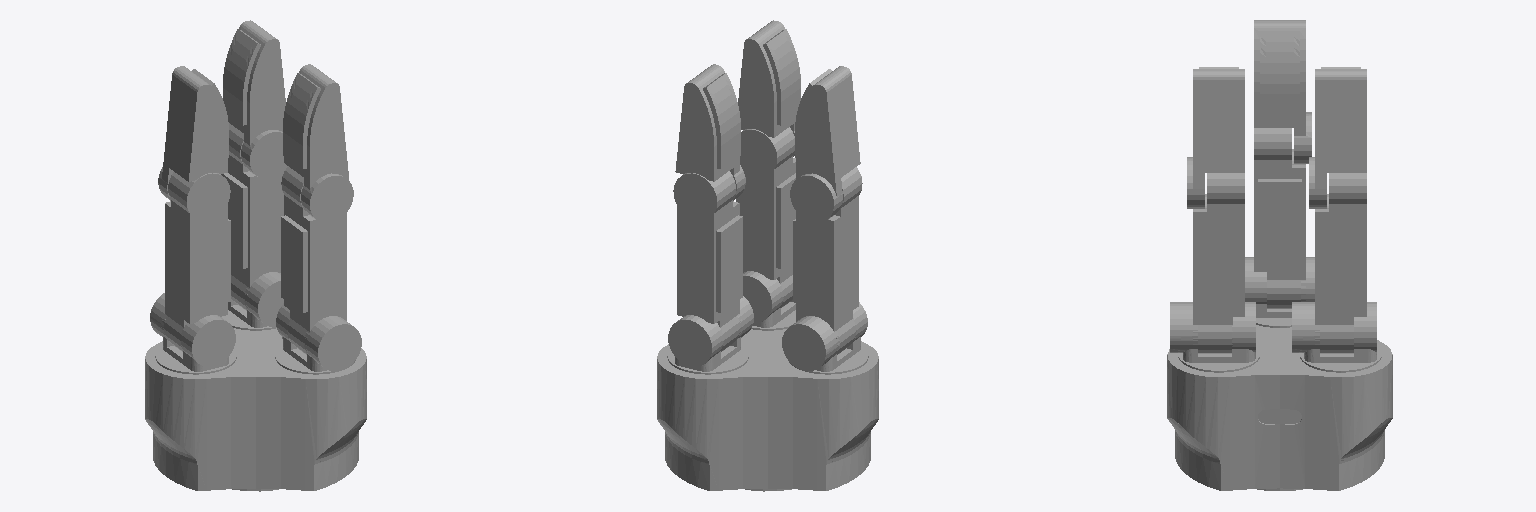
URDF robot description (lbr):
<?xml version="1.0" ?>
<!-- =================================================================================== -->
<!-- |    This document was autogenerated by xacro from sdh2.xacro                     | -->
<!-- |    EDITING THIS FILE BY HAND IS NOT RECOMMENDED                                 | -->
<!-- =================================================================================== -->
<robot name="lbr" xmlns:controller="http://playerstage.sourceforge.net/gazebo/xmlschema/#controller" xmlns:interface="http://playerstage.sourceforge.net/gazebo/xmlschema/#interface" xmlns:sensor="http://playerstage.sourceforge.net/gazebo/xmlschema/#sensor" xmlns:xacro="http://ros.org/wiki/xacro">
  <material name="Schunk/LightGrey">
    <color rgba="0.7 0.7 0.7 1.0"/>
  </material>
  <material name="Schunk/DarkGrey">
    <color rgba="0.4 0.4 0.4 1.0"/>
  </material>
  <material name="Schunk/Black">
    <color rgba="0.0 0.0 0.0 1.0"/>
  </material>
  <material name="Schunk/DarkGolden">
    <color rgba="0.4 0.4 0.3 1.0"/>
  </material>
  <material name="Schunk/Blue">
    <color rgba="0.0 0.0 0.8 1.0"/>
  </material>
  <link name="sdh2_palm_link">
    <inertial>
      <origin rpy="0 0 0" xyz="0 0 0"/>
      <mass value="1"/>
      <inertia ixx="0.01" ixy="0" ixz="0" iyy="0.01" iyz="0" izz="0.01"/>
    </inertial>
    <visual>
      <origin rpy="0 0 0" xyz="0 0 0"/>
      <geometry>
        <mesh filename="package://sdh2_description/meshes/palm.stl"/>
      </geometry>
      <material name="Schunk/LightGrey"/>
    </visual>
    <collision>
      <origin rpy="0 0 0" xyz="0 0 0"/>
      <geometry>
        <mesh filename="package://sdh2_description/meshes/palm_low_res.stl"/>
      </geometry>
    </collision>
  </link>
  <joint name="sdh2_grasp_joint" type="fixed">
    <origin rpy="0 0 0" xyz="0 0 0.15"/>
    <parent link="sdh2_palm_link"/>
    <child link="sdh2_grasp_link"/>
  </joint>
  <link name="sdh2_grasp_link"/>
  <joint name="sdh2_tip_joint" type="fixed">
    <origin rpy="0 0 0" xyz="0 0 0.22"/>
    <parent link="sdh2_palm_link"/>
    <child link="sdh2_tip_link"/>
  </joint>
  <link name="sdh2_tip_link"/>
  <joint name="sdh2_knuckle_joint" type="revolute">
    <origin rpy="0 0 3.14159265" xyz="0.01905 0.033 0.0745"/>
    <parent link="sdh2_palm_link"/>
    <child link="sdh2_finger_11_link"/>
    <axis xyz="0 0 1"/>
    <dynamics damping="1"/>
    <limit effort="100" lower="0" upper="1.570796327" velocity="5"/>
  </joint>
  <link name="sdh2_finger_11_link">
    <inertial>
      <origin rpy="0 0 0" xyz="0 0 0"/>
      <mass value="0.1"/>
      <inertia ixx="0.01" ixy="0" ixz="0" iyy="0.01" iyz="0" izz="0.01"/>
    </inertial>
    <visual>
      <origin rpy="0 0 0" xyz="0 0 0"/>
      <geometry>
        <mesh filename="package://sdh2_description/meshes/knuckle.stl"/>
      </geometry>
      <material name="Schunk/LightGrey"/>
    </visual>
    <collision>
      <origin rpy="0 0 0" xyz="0 0 0"/>
      <geometry>
        <mesh filename="package://sdh2_description/meshes/knuckle_low_res.stl"/>
      </geometry>
    </collision>
  </link>
  <joint name="sdh2_finger_12_joint" type="revolute">
    <origin rpy="0 0 0" xyz="0 0 0.0165"/>
    <parent link="sdh2_finger_11_link"/>
    <child link="sdh2_finger_12_link"/>
    <axis xyz="0 1 0"/>
    <dynamics damping="1"/>
    <limit effort="100" lower="-1.570796327" upper="1.570796327" velocity="5"/>
  </joint>
  <link name="sdh2_finger_12_link">
    <inertial>
      <origin rpy="0 0 0" xyz="0 0 0"/>
      <mass value="0.1"/>
      <inertia ixx="0.01" ixy="0" ixz="0" iyy="0.01" iyz="0" izz="0.01"/>
    </inertial>
    <visual>
      <origin rpy="0 0 0" xyz="0 0 0"/>
      <geometry>
        <mesh filename="package://sdh2_description/meshes/finger.stl"/>
      </geometry>
      <material name="Schunk/LightGrey"/>
    </visual>
    <collision>
      <origin rpy="0 0 0" xyz="0 0 0"/>
      <geometry>
        <mesh filename="package://sdh2_description/meshes/finger_low_res.stl"/>
      </geometry>
    </collision>
  </link>
  <joint name="sdh2_finger_13_joint" type="revolute">
    <origin rpy="0 0 0" xyz="0 0 0.0865"/>
    <parent link="sdh2_finger_12_link"/>
    <child link="sdh2_finger_13_link"/>
    <axis xyz="0 1 0"/>
    <dynamics damping="1"/>
    <limit effort="100" lower="-1.570796327" upper="1.570796327" velocity="5"/>
  </joint>
  <link name="sdh2_finger_13_link">
    <inertial>
      <origin rpy="0 0 0" xyz="0 0 0"/>
      <mass value="0.1"/>
      <inertia ixx="0.01" ixy="0" ixz="0" iyy="0.01" iyz="0" izz="0.01"/>
    </inertial>
    <visual>
      <origin rpy="0 0 0" xyz="0 0 0"/>
      <geometry>
        <mesh filename="package://sdh2_description/meshes/finger_tip.stl"/>
      </geometry>
      <material name="Schunk/LightGrey"/>
    </visual>
    <collision>
      <origin rpy="0 0 0" xyz="0 0 0"/>
      <geometry>
        <mesh filename="package://sdh2_description/meshes/finger_tip_low_res.stl"/>
      </geometry>
    </collision>
  </link>
  <joint name="sdh2_finger_21_joint" type="revolute">
    <mimic joint="sdh2_knuckle_joint" multiplier="1" offset="0"/>
    <origin rpy="0 0 3.14159265" xyz="0.01905 -0.033 0.0745"/>
    <parent link="sdh2_palm_link"/>
    <child link="sdh2_finger_21_link"/>
    <axis xyz="0 0 -1"/>
    <dynamics damping="1"/>
    <limit effort="100" lower="0" upper="1.570796327" velocity="5"/>
  </joint>
  <link name="sdh2_finger_21_link">
    <inertial>
      <origin rpy="0 0 0" xyz="0 0 0"/>
      <mass value="0.1"/>
      <inertia ixx="0.01" ixy="0" ixz="0" iyy="0.01" iyz="0" izz="0.01"/>
    </inertial>
    <visual>
      <origin rpy="0 0 0" xyz="0 0 0"/>
      <geometry>
        <mesh filename="package://sdh2_description/meshes/knuckle.stl"/>
      </geometry>
      <material name="Schunk/LightGrey"/>
    </visual>
    <collision>
      <origin rpy="0 0 0" xyz="0 0 0"/>
      <geometry>
        <mesh filename="package://sdh2_description/meshes/knuckle_low_res.stl"/>
      </geometry>
    </collision>
  </link>
  <joint name="sdh2_finger_22_joint" type="revolute">
    <origin rpy="0 0 0" xyz="0 0 0.0165"/>
    <parent link="sdh2_finger_21_link"/>
    <child link="sdh2_finger_22_link"/>
    <axis xyz="0 1 0"/>
    <dynamics damping="1"/>
    <limit effort="100" lower="-1.570796327" upper="1.570796327" velocity="5"/>
  </joint>
  <link name="sdh2_finger_22_link">
    <inertial>
      <origin rpy="0 0 0" xyz="0 0 0"/>
      <mass value="0.1"/>
      <inertia ixx="0.01" ixy="0" ixz="0" iyy="0.01" iyz="0" izz="0.01"/>
    </inertial>
    <visual>
      <origin rpy="0 0 0" xyz="0 0 0"/>
      <geometry>
        <mesh filename="package://sdh2_description/meshes/finger.stl"/>
      </geometry>
      <material name="Schunk/LightGrey"/>
    </visual>
    <collision>
      <origin rpy="0 0 0" xyz="0 0 0"/>
      <geometry>
        <mesh filename="package://sdh2_description/meshes/finger_low_res.stl"/>
      </geometry>
    </collision>
  </link>
  <joint name="sdh2_finger_23_joint" type="revolute">
    <origin rpy="0 0 0" xyz="0 0 0.0865"/>
    <parent link="sdh2_finger_22_link"/>
    <child link="sdh2_finger_23_link"/>
    <axis xyz="0 1 0"/>
    <dynamics damping="1"/>
    <limit effort="100" lower="-1.570796327" upper="1.570796327" velocity="5"/>
  </joint>
  <link name="sdh2_finger_23_link">
    <inertial>
      <origin rpy="0 0 0" xyz="0 0 0"/>
      <mass value="0.1"/>
      <inertia ixx="0.01" ixy="0" ixz="0" iyy="0.01" iyz="0" izz="0.01"/>
    </inertial>
    <visual>
      <origin rpy="0 0 0" xyz="0 0 0"/>
      <geometry>
        <mesh filename="package://sdh2_description/meshes/finger_tip.stl"/>
      </geometry>
      <material name="Schunk/LightGrey"/>
    </visual>
    <collision>
      <origin rpy="0 0 0" xyz="0 0 0"/>
      <geometry>
        <mesh filename="package://sdh2_description/meshes/finger_tip_low_res.stl"/>
      </geometry>
    </collision>
  </link>
  <joint name="sdh2_thumb_1_joint" type="fixed">
    <origin rpy="0 0 0" xyz="-0.03811 0 0.0745 "/>
    <parent link="sdh2_palm_link"/>
    <child link="sdh2_thumb_1_link"/>
  </joint>
  <link name="sdh2_thumb_1_link">
    <inertial>
      <origin rpy="0 0 0" xyz="0 0 0"/>
      <mass value="0.1"/>
      <inertia ixx="0.01" ixy="0" ixz="0" iyy="0.01" iyz="0" izz="0.01"/>
    </inertial>
    <visual>
      <origin rpy="0 0 0" xyz="0 0 0"/>
      <geometry>
        <mesh filename="package://sdh2_description/meshes/knuckle.stl"/>
      </geometry>
      <material name="Schunk/LightGrey"/>
    </visual>
    <collision>
      <origin rpy="0 0 0" xyz="0 0 0"/>
      <geometry>
        <mesh filename="package://sdh2_description/meshes/knuckle_low_res.stl"/>
      </geometry>
    </collision>
  </link>
  <joint name="sdh2_thumb_2_joint" type="revolute">
    <origin rpy="0 0 0" xyz="0 0 0.0165"/>
    <parent link="sdh2_thumb_1_link"/>
    <child link="sdh2_thumb_2_link"/>
    <axis xyz="0 1 0"/>
    <dynamics damping="1"/>
    <limit effort="100" lower="-1.570796327" upper="1.570796327" velocity="5"/>
  </joint>
  <link name="sdh2_thumb_2_link">
    <inertial>
      <origin rpy="0 0 0" xyz="0 0 0"/>
      <mass value="0.1"/>
      <inertia ixx="0.01" ixy="0" ixz="0" iyy="0.01" iyz="0" izz="0.01"/>
    </inertial>
    <visual>
      <origin rpy="0 0 0" xyz="0 0 0"/>
      <geometry>
        <mesh filename="package://sdh2_description/meshes/finger.stl"/>
      </geometry>
      <material name="Schunk/LightGrey"/>
    </visual>
    <collision>
      <origin rpy="0 0 0" xyz="0 0 0"/>
      <geometry>
        <mesh filename="package://sdh2_description/meshes/finger_low_res.stl"/>
      </geometry>
    </collision>
  </link>
  <joint name="sdh2_thumb_3_joint" type="revolute">
    <origin rpy="0 0 0" xyz="0 0 0.0865"/>
    <parent link="sdh2_thumb_2_link"/>
    <child link="sdh2_thumb_3_link"/>
    <axis xyz="0 1 0"/>
    <dynamics damping="1"/>
    <limit effort="100" lower="-1.570796327" upper="1.570796327" velocity="5"/>
  </joint>
  <link name="sdh2_thumb_3_link">
    <inertial>
      <origin rpy="0 0 0" xyz="0 0 0"/>
      <mass value="0.1"/>
      <inertia ixx="0.01" ixy="0" ixz="0" iyy="0.01" iyz="0" izz="0.01"/>
    </inertial>
    <visual>
      <origin rpy="0 0 0" xyz="0 0 0"/>
      <geometry>
        <mesh filename="package://sdh2_description/meshes/finger_tip.stl"/>
      </geometry>
      <material name="Schunk/LightGrey"/>
    </visual>
    <collision>
      <origin rpy="0 0 0" xyz="0 0 0"/>
      <geometry>
        <mesh filename="package://sdh2_description/meshes/finger_tip_low_res.stl"/>
      </geometry>
    </collision>
  </link>
  <gazebo reference="sdh2_palm_link">
    <material>Schunk/LightGrey</material>
    <turnGravityOff>false</turnGravityOff>
  </gazebo>
  <gazebo reference="sdh2_finger_11_link">
    <material>Schunk/LightGrey</material>
    <turnGravityOff>false</turnGravityOff>
  </gazebo>
  <gazebo reference="sdh2_finger_12_link">
    <selfCollide>true</selfCollide>
    <sensor:contact name="sdh2_finger_12_contact_sensor">
      <geom>sdh2_finger_12_link_geom</geom>
      <updateRate>100.0</updateRate>
      <controller:gazebo_ros_bumper name="sdh2_finger_12_gazebo_ros_bumper_controller" plugin="libgazebo_ros_bumper.so">
        <alwaysOn>true</alwaysOn>
        <updateRate>100.0</updateRate>
        <frameName>sdh2_finger_12_link</frameName>
        <bumperTopicName>sdh2_finger_12_bumper</bumperTopicName>
        <interface:bumper name="sdh2_finger_12_bumper_iface"/>
      </controller:gazebo_ros_bumper>
    </sensor:contact>
    <material>Schunk/LightGrey</material>
    <turnGravityOff>false</turnGravityOff>
  </gazebo>
  <gazebo reference="sdh2_finger_13_link">
    <selfCollide>true</selfCollide>
    <sensor:contact name="sdh2_finger_13_contact_sensor">
      <geom>sdh2_finger_13_link_geom</geom>
      <updateRate>100.0</updateRate>
      <controller:gazebo_ros_bumper name="sdh2_finger_13_gazebo_ros_bumper_controller" plugin="libgazebo_ros_bumper.so">
        <alwaysOn>true</alwaysOn>
        <updateRate>100.0</updateRate>
        <frameName>sdh2_finger_13_link</frameName>
        <bumperTopicName>sdh2_finger_13_bumper</bumperTopicName>
        <interface:bumper name="sdh2_finger_13_bumper_iface"/>
      </controller:gazebo_ros_bumper>
    </sensor:contact>
    <material>Schunk/LightGrey</material>
  </gazebo>
  <gazebo reference="sdh2_finger_21_link">
    <material>Schunk/LightGrey</material>
    <turnGravityOff>false</turnGravityOff>
  </gazebo>
  <gazebo reference="sdh2_finger_22_link">
    <selfCollide>true</selfCollide>
    <sensor:contact name="sdh2_finger_22_contact_sensor">
      <geom>sdh2_finger_22_link_geom</geom>
      <updateRate>100.0</updateRate>
      <controller:gazebo_ros_bumper name="sdh2_finger_22_gazebo_ros_bumper_controller" plugin="libgazebo_ros_bumper.so">
        <alwaysOn>true</alwaysOn>
        <updateRate>100.0</updateRate>
        <frameName>sdh2_finger_22_link</frameName>
        <bumperTopicName>sdh2_finger_22_bumper</bumperTopicName>
        <interface:bumper name="sdh2_finger_22_bumper_iface"/>
      </controller:gazebo_ros_bumper>
    </sensor:contact>
    <material>Schunk/LightGrey</material>
    <turnGravityOff>false</turnGravityOff>
  </gazebo>
  <gazebo reference="sdh2_finger_23_link">
    <selfCollide>true</selfCollide>
    <sensor:contact name="sdh2_finger_23_contact_sensor">
      <geom>sdh2_finger_23_link_geom</geom>
      <updateRate>100.0</updateRate>
      <controller:gazebo_ros_bumper name="sdh2_finger_23_gazebo_ros_bumper_controller" plugin="libgazebo_ros_bumper.so">
        <alwaysOn>true</alwaysOn>
        <updateRate>100.0</updateRate>
        <frameName>sdh2_finger_23_link</frameName>
        <bumperTopicName>sdh2_finger_23_bumper</bumperTopicName>
        <interface:bumper name="sdh2_finger_23_bumper_iface"/>
      </controller:gazebo_ros_bumper>
    </sensor:contact>
    <material>Schunk/LightGrey</material>
  </gazebo>
  <gazebo reference="sdh2_thumb_1_link">
    <material>Schunk/LightGrey</material>
    <turnGravityOff>false</turnGravityOff>
  </gazebo>
  <gazebo reference="sdh2_thumb_2_link">
    <selfCollide>true</selfCollide>
    <sensor:contact name="sdh2_thumb_2_contact_sensor">
      <geom>sdh2_thumb_2_link_geom</geom>
      <updateRate>100.0</updateRate>
      <controller:gazebo_ros_bumper name="sdh2_thumb_2_gazebo_ros_bumper_controller" plugin="libgazebo_ros_bumper.so">
        <alwaysOn>true</alwaysOn>
        <updateRate>100.0</updateRate>
        <frameName>sdh2_thumb_2_link</frameName>
        <bumperTopicName>sdh2_thumb_2_bumper</bumperTopicName>
        <interface:bumper name="sdh2_thumb_2_bumper_iface"/>
      </controller:gazebo_ros_bumper>
    </sensor:contact>
    <material>Schunk/LightGrey</material>
    <turnGravityOff>false</turnGravityOff>
  </gazebo>
  <gazebo reference="sdh2_thumb_3_link">
    <selfCollide>true</selfCollide>
    <sensor:contact name="sdh2_thumb_3_contact_sensor">
      <geom>sdh2_thumb_3_link_geom</geom>
      <updateRate>100.0</updateRate>
      <controller:gazebo_ros_bumper name="sdh2_thumb_3_gazebo_ros_bumper_controller" plugin="libgazebo_ros_bumper.so">
        <alwaysOn>true</alwaysOn>
        <updateRate>100.0</updateRate>
        <frameName>sdh2_thumb_3_link</frameName>
        <bumperTopicName>sdh2_thumb_3_bumper</bumperTopicName>
        <interface:bumper name="sdh2_thumb_3_bumper_iface"/>
      </controller:gazebo_ros_bumper>
    </sensor:contact>
    <material>Schunk/LightGrey</material>
  </gazebo>
  <transmission name="sdh2_knuckle_trans" type="pr2_mechanism_model/SimpleTransmission">
    <actuator name="sdh2_knuckle_motor"/>
    <joint name="sdh2_finger_21_joint"/>
    <mechanicalReduction>1</mechanicalReduction>
  </transmission>
  <transmission name="sdh2_knuckle_trans" type="pr2_mechanism_model/SimpleTransmission">
    <actuator name="sdh2_knuckle_motor"/>
    <joint name="sdh2_knuckle_joint"/>
    <mechanicalReduction>1</mechanicalReduction>
  </transmission>
  <transmission name="sdh2_finger_12_trans" type="pr2_mechanism_model/SimpleTransmission">
    <actuator name="sdh2_finger_12_motor"/>
    <joint name="sdh2_finger_12_joint"/>
    <mechanicalReduction>1</mechanicalReduction>
  </transmission>
  <transmission name="sdh2_finger_13_trans" type="pr2_mechanism_model/SimpleTransmission">
    <actuator name="sdh2_finger_13_motor"/>
    <joint name="sdh2_finger_13_joint"/>
    <mechanicalReduction>1</mechanicalReduction>
  </transmission>
  <transmission name="sdh2_finger_22_trans" type="pr2_mechanism_model/SimpleTransmission">
    <actuator name="sdh2_finger_22_motor"/>
    <joint name="sdh2_finger_22_joint"/>
    <mechanicalReduction>1</mechanicalReduction>
  </transmission>
  <transmission name="sdh2_finger_23_trans" type="pr2_mechanism_model/SimpleTransmission">
    <actuator name="sdh2_finger_23_motor"/>
    <joint name="sdh2_finger_23_joint"/>
    <mechanicalReduction>1</mechanicalReduction>
  </transmission>
  <transmission name="sdh2_thumb_2_trans" type="pr2_mechanism_model/SimpleTransmission">
    <actuator name="sdh2_thumb_2_motor"/>
    <joint name="sdh2_thumb_2_joint"/>
    <mechanicalReduction>1</mechanicalReduction>
  </transmission>
  <transmission name="sdh2_thumb_3_trans" type="pr2_mechanism_model/SimpleTransmission">
    <actuator name="sdh2_thumb_3_motor"/>
    <joint name="sdh2_thumb_3_joint"/>
    <mechanicalReduction>1</mechanicalReduction>
  </transmission>
</robot>

--- What the picture shows (computed from the rendered views, not written in the file) ---
3 views of the same robot in one strip: view 1: azimuth 30°, elevation 25°; view 2: azimuth 150°, elevation 25°; view 3: azimuth 270°, elevation 25° (orthographic).
Model lbr with 12 links and 11 joints (8 revolute, 3 fixed), rooted at sdh2_palm_link, posed every joint at zero.
Links seen in each view (by area): view 1: sdh2_palm_link, sdh2_thumb_2_link, sdh2_finger_22_link, sdh2_finger_23_link, sdh2_finger_13_link, sdh2_finger_12_link, sdh2_thumb_3_link, sdh2_thumb_1_link, sdh2_finger_21_link, sdh2_finger_11_link; view 2: sdh2_palm_link, sdh2_finger_12_link, sdh2_thumb_3_link, sdh2_thumb_2_link, sdh2_finger_22_link, sdh2_finger_13_link, sdh2_finger_23_link, sdh2_finger_11_link, sdh2_thumb_1_link, sdh2_finger_21_link; view 3: sdh2_palm_link, sdh2_finger_22_link, sdh2_finger_12_link, sdh2_thumb_2_link, sdh2_thumb_3_link, sdh2_finger_13_link, sdh2_finger_23_link, sdh2_finger_21_link, sdh2_finger_11_link, sdh2_thumb_1_link.
Link boxes in pixels (<box>): sdh2_palm_link: <box>145,328,366,491</box>; sdh2_thumb_2_link: <box>161,172,230,351</box>; sdh2_finger_22_link: <box>281,166,346,354</box>; sdh2_finger_23_link: <box>283,64,353,222</box>; sdh2_finger_13_link: <box>223,20,287,178</box>; sdh2_finger_12_link: <box>221,123,283,310</box>; sdh2_thumb_3_link: <box>158,66,228,200</box>; sdh2_thumb_1_link: <box>150,293,236,374</box>; sdh2_finger_21_link: <box>275,303,361,374</box>; sdh2_finger_11_link: <box>222,272,283,330</box>; sdh2_palm_link: <box>657,329,878,491</box>; sdh2_finger_12_link: <box>673,171,742,351</box>; sdh2_thumb_3_link: <box>790,66,860,222</box>; sdh2_thumb_2_link: <box>793,167,862,354</box>; sdh2_finger_22_link: <box>736,127,795,307</box>; sdh2_finger_13_link: <box>675,64,745,200</box>; sdh2_finger_23_link: <box>738,20,800,156</box>; sdh2_finger_11_link: <box>667,296,753,374</box>; sdh2_thumb_1_link: <box>782,302,868,374</box>; sdh2_finger_21_link: <box>743,271,795,330</box>; sdh2_palm_link: <box>1167,325,1392,490</box>; sdh2_finger_22_link: <box>1193,173,1244,352</box>; sdh2_finger_12_link: <box>1315,173,1366,352</box>; sdh2_thumb_2_link: <box>1254,128,1305,308</box>; sdh2_thumb_3_link: <box>1254,20,1311,163</box>; sdh2_finger_13_link: <box>1309,67,1366,208</box>; sdh2_finger_23_link: <box>1187,67,1244,208</box>; sdh2_finger_21_link: <box>1170,302,1259,372</box>; sdh2_finger_11_link: <box>1292,302,1381,372</box>; sdh2_thumb_1_link: <box>1245,257,1314,327</box>.
Size in the robot's own frame: 0.1132 by 0.122 by 0.2489 metres.
10 mesh visuals loaded from 4 distinct referenced files (4 binary STL).